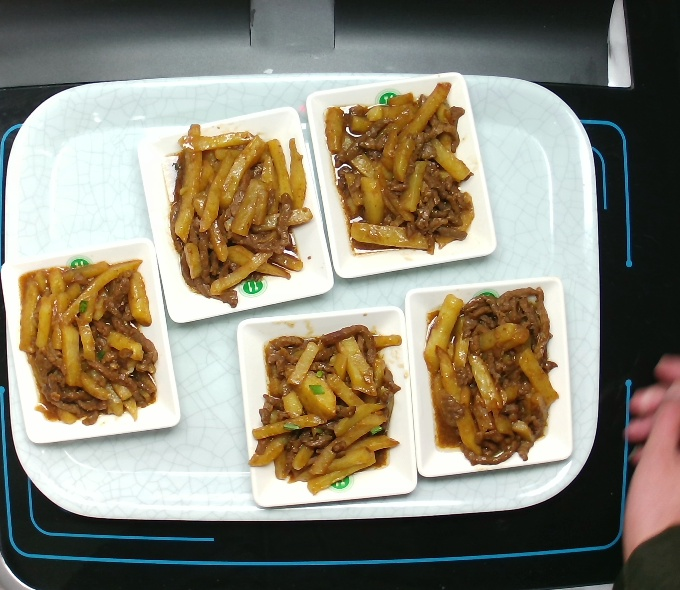wcq-TuDouNiuRou: (162, 121, 313, 309), (249, 329, 413, 500), (328, 83, 477, 261), (422, 285, 561, 470), (18, 260, 163, 425)
